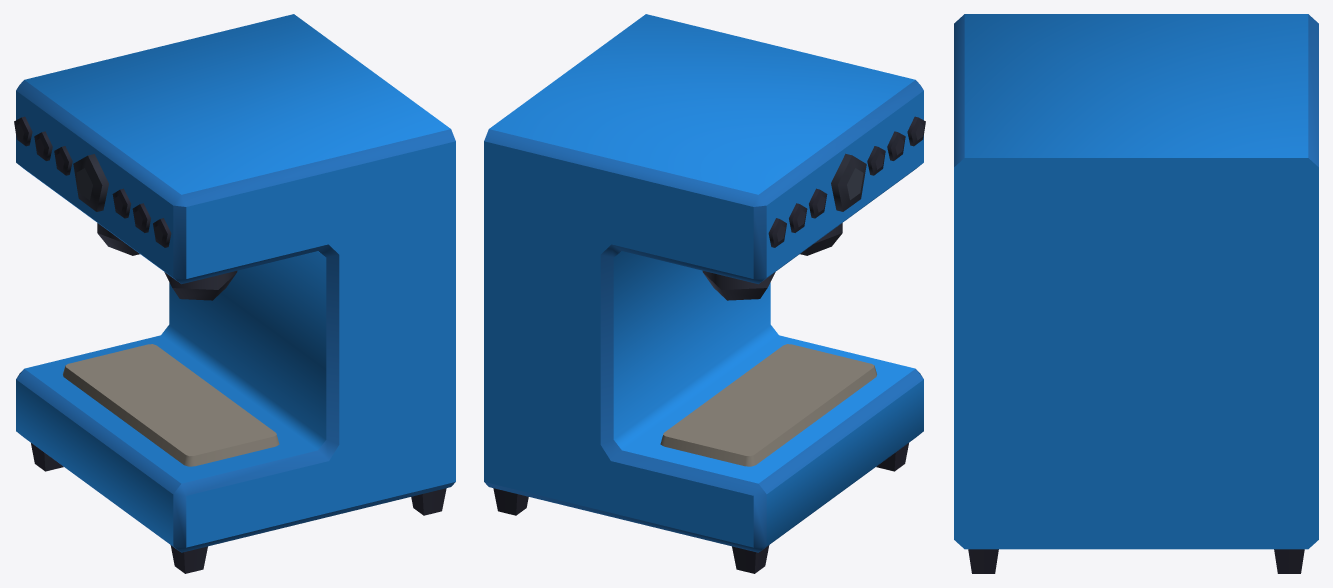
Rendered from CoffeeMachine_1_F.fbx.
3 views of the same model, side by side, from view 1: azimuth 30°, elevation 25°; view 2: azimuth 150°, elevation 25°; view 3: azimuth 270°, elevation 25° (orthographic). The views are drawn at different scales.
Visible parts, largest first — view 1: CoffeeMachine_1_F; view 2: CoffeeMachine_1_F; view 3: CoffeeMachine_1_F.
Boxes of the visible parts, x1,y1,x2,y2 form: CoffeeMachine_1_F: [14, 14, 455, 573]; CoffeeMachine_1_F: [484, 14, 925, 573]; CoffeeMachine_1_F: [954, 14, 1318, 573].
Bounding box in the file's own units: 48.51 × 61.74 × 48.68.
